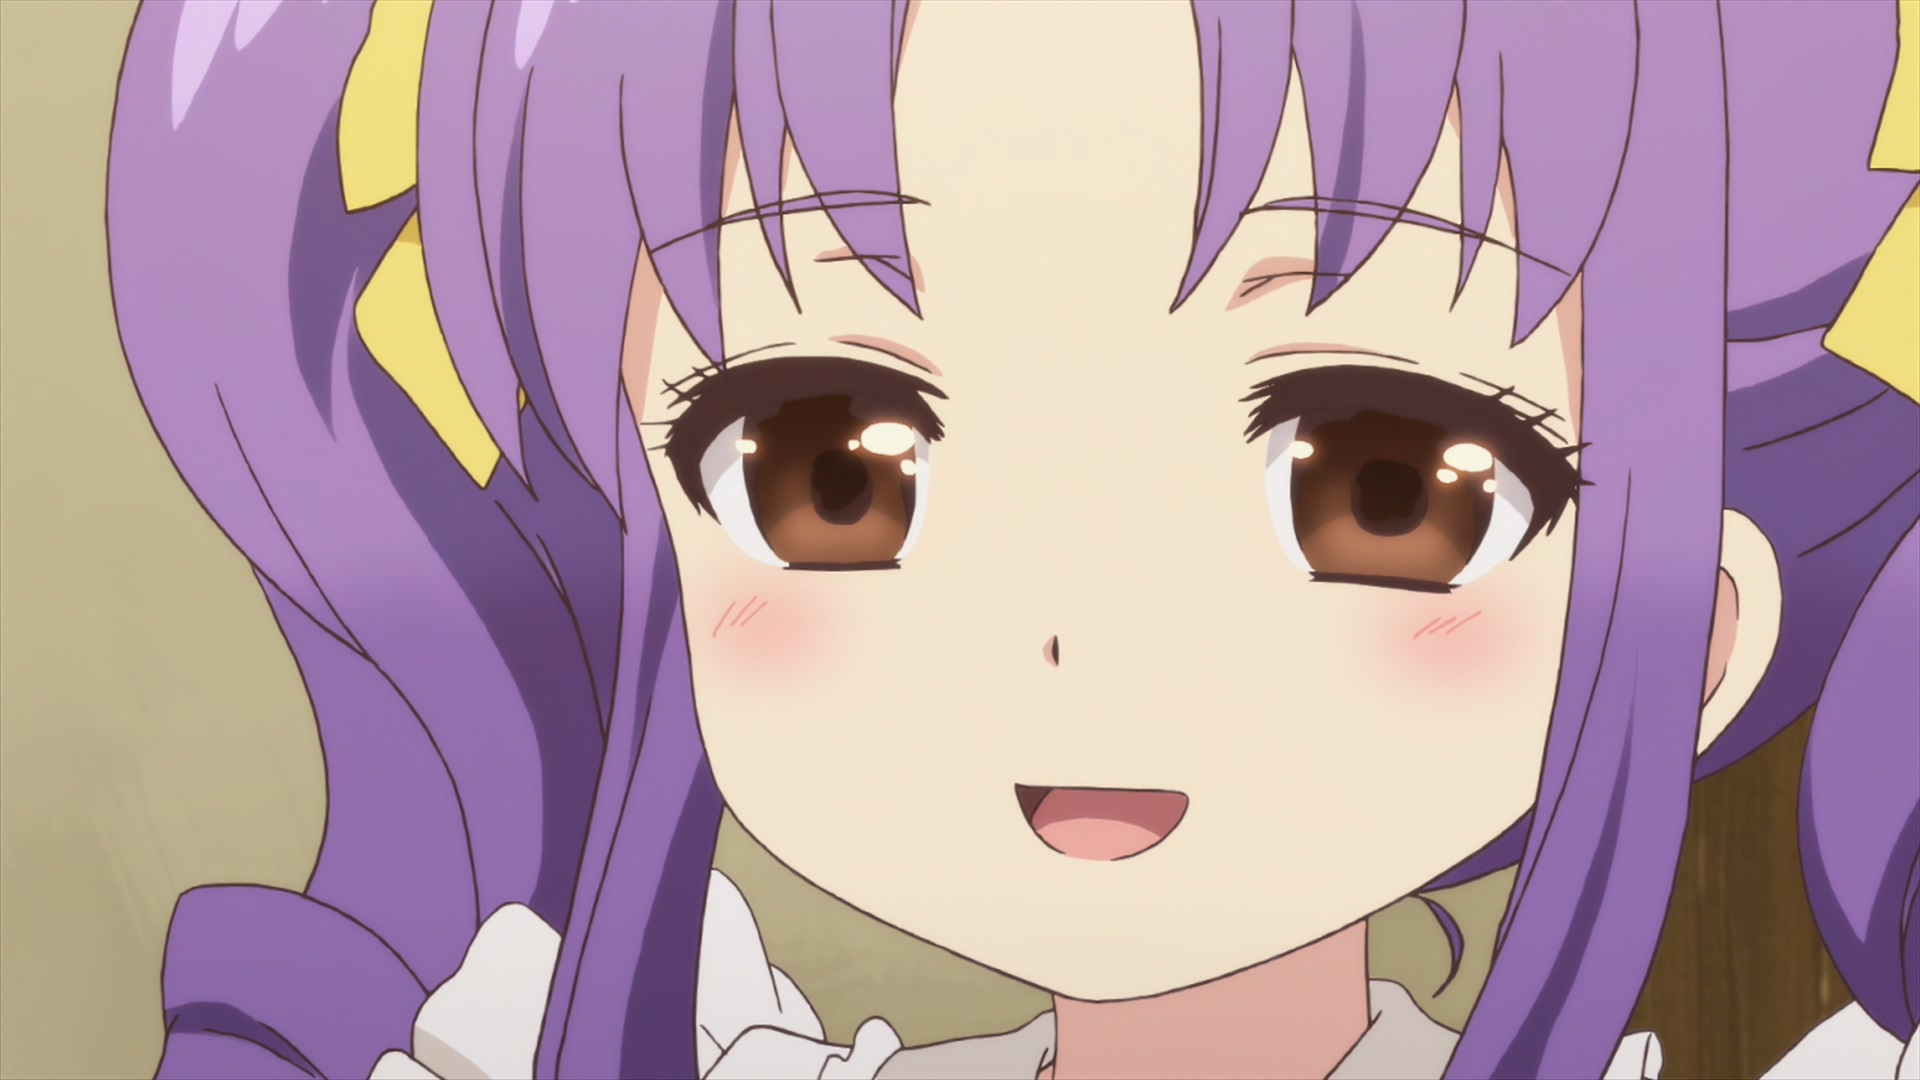阿菊: (102, 1, 1920, 1080)
